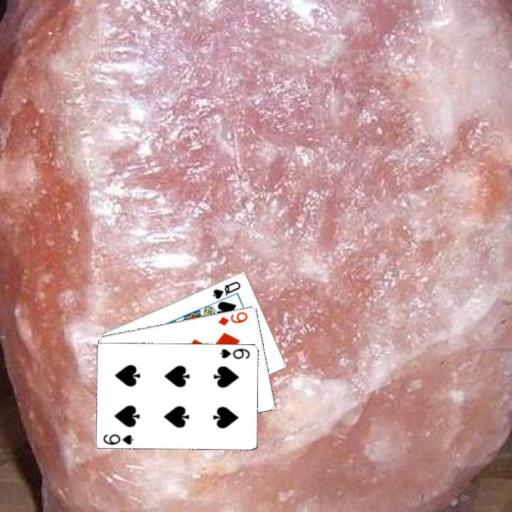6S: (101, 430, 135, 446), (217, 345, 251, 360)
9D: (216, 309, 250, 327)
QS: (209, 278, 243, 300)
